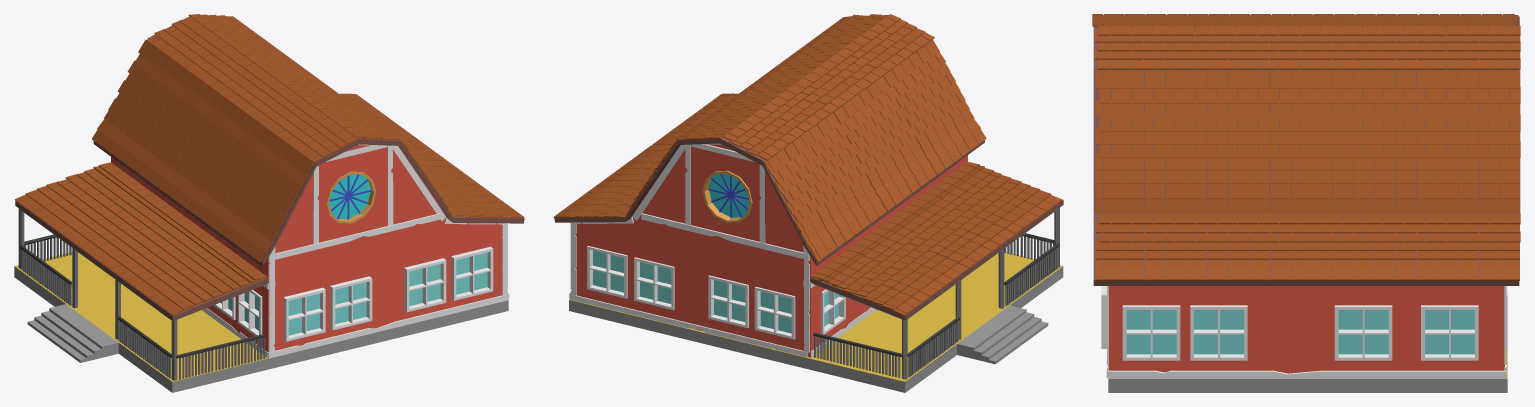
File: house01.fbx
3 views of the same model, side by side, from view 1: azimuth 30°, elevation 25°; view 2: azimuth 150°, elevation 25°; view 3: azimuth 270°, elevation 25° (orthographic). The views are drawn at different scales.
Visible parts, largest first — view 1: house01rooftile, house01, house01roof; view 2: house01rooftile, house01, house01roof; view 3: house01rooftile, house01, house01roof.
Boxes of the visible parts, box(x1,y1,x2,y2) form: house01rooftile: box(15, 14, 524, 315); house01: box(14, 144, 509, 392); house01roof: box(15, 16, 524, 321); house01rooftile: box(553, 14, 1061, 315); house01: box(569, 143, 1063, 392); house01roof: box(554, 15, 1063, 320); house01rooftile: box(1092, 14, 1520, 280); house01: box(1101, 286, 1507, 392); house01roof: box(1093, 16, 1519, 285).
Bounding box in the file's own units: 2661 × 1418 × 2031.
